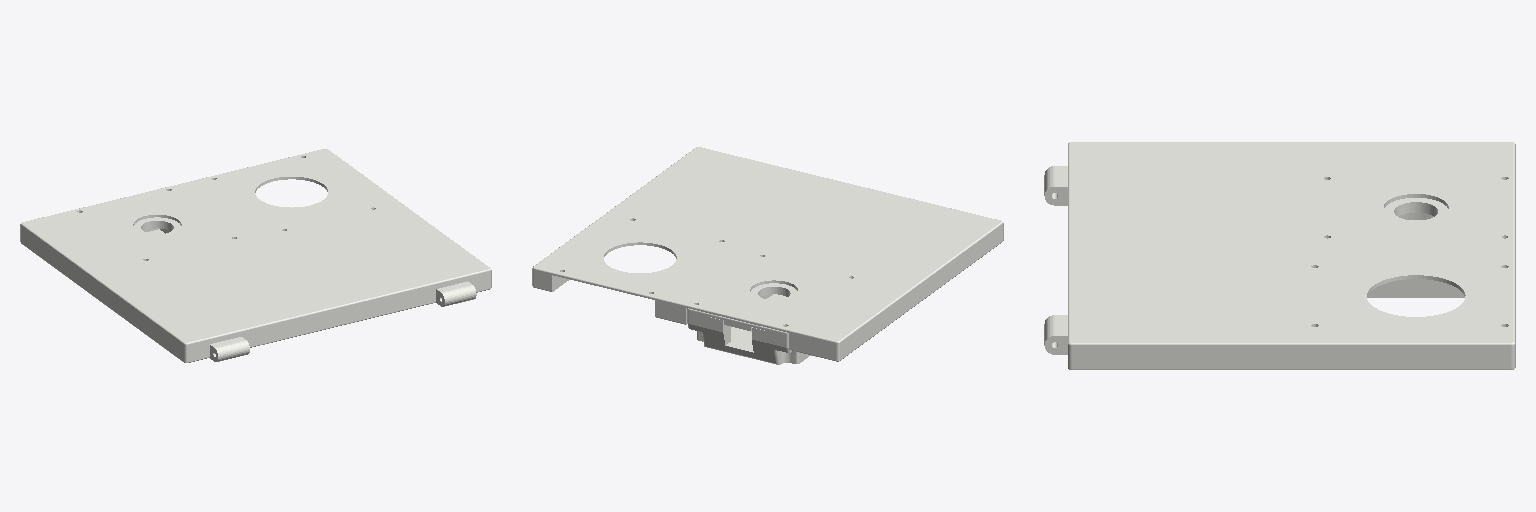
URDF robot description (cb_doorlatch_door):
<?xml version="1.0"?>
<!-- ContactBench door + knob module, hinged (door_latch_tasks.py) -->
<robot name="cb_doorlatch_door">
  <material name="c"><color rgba="0.95 0.95 0.93 1.0"/></material>
  <link name="door">
    <visual><origin xyz="0 0 0" rpy="0 0 0"/><geometry><mesh filename="doorlatch_door.obj" scale="1 1 1"/></geometry><material name="c"/></visual>
    <collision><origin xyz="0.038850 -0.064750 0.024750" rpy="0 0 0"/><geometry><box size="0.228000 0.224000 0.014500"/></geometry></collision>
    <inertial><mass value="0.189973"/><origin xyz="0.027500 -0.066827 0.023390" rpy="0 0 0"/><inertia ixx="7.199725e-04" ixy="1.366973e-04" ixz="-9.712556e-06" iyy="8.065152e-04" iyz="1.592880e-05" izz="1.510225e-03"/></inertial>
  </link>
</robot>

--- Facts derived from the render (not from the file) ---
Views: 3 orthographic renders of the robot side by side, from view 1: azimuth 30°, elevation 25°; view 2: azimuth 150°, elevation 25°; view 3: azimuth 270°, elevation 25°.
Robot: cb_doorlatch_door — 1 links, 0 joints (none); root link door; default pose: every joint at zero.
Visible links, largest first — view 1: door; view 2: door; view 3: door.
Boxes of the visible links, bbox=[...] form: door: bbox=[20, 149, 491, 362]; door: bbox=[532, 147, 1003, 364]; door: bbox=[1044, 142, 1515, 369].
Bounding box of the posed robot: 0.228 × 0.224 × 0.0295 m (x, y, z).
Meshes: 1 distinct files referenced, 1 mesh visuals loaded (1 OBJ).
